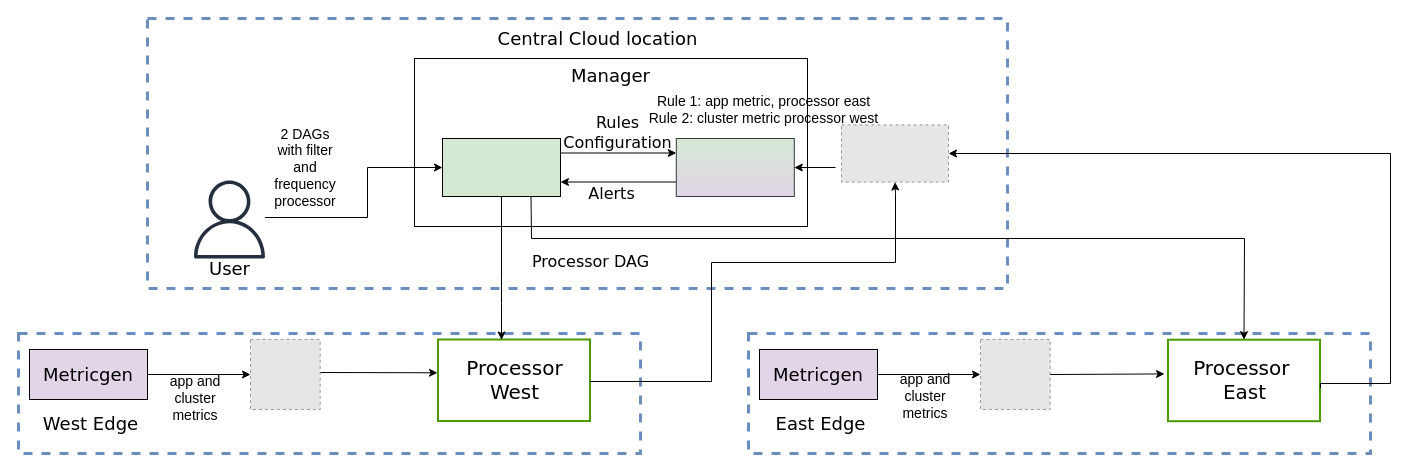
The diagram is 1416 pixels wide and 472 high, and some of its shapes have lost their labels. Grey dashed boxes stand in for pictures. Here are the shapes that lost their labels. From the top down, the centre of each, then its label:
pixel 501 167: Configurator
pixel 734 167: Alert Managemer
